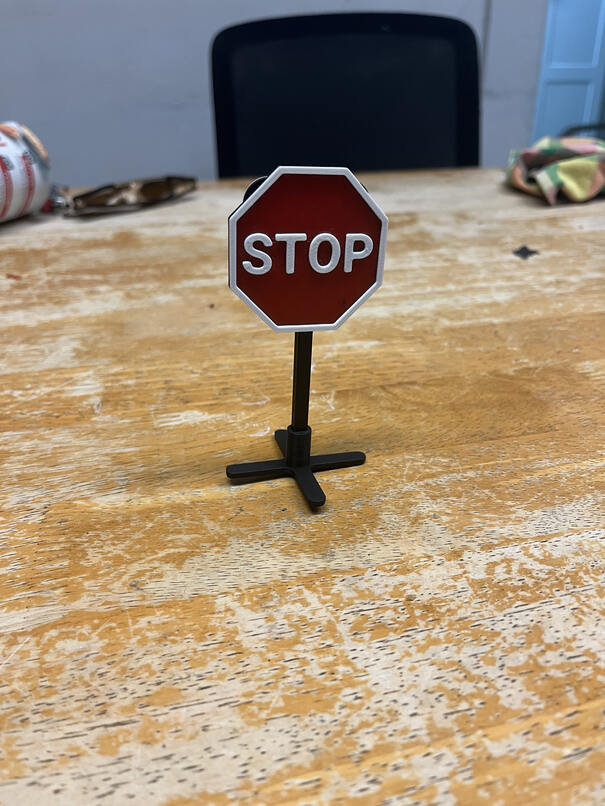sign_stop: (226, 164, 390, 336)
